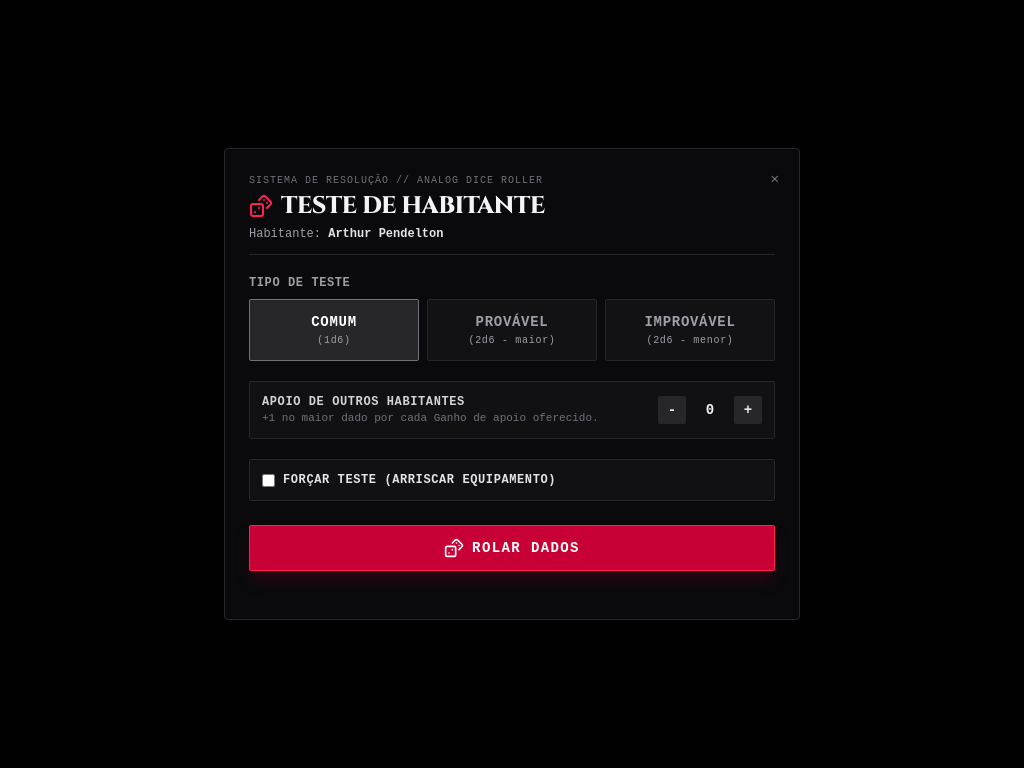
Test: MissingDiceRollerModal Component › permite alternar entre teste comum, provável e improvável
Expected: the button with test id "btn-teste-comum" is shown, [249,299,419,361]
Expected: the button with test id "btn-teste-improvavel" is shown, [605,299,775,361]
Note: Alterna para Provável
Click the button with test id "btn-teste-provavel" at (512, 330), box [427,299,597,361]
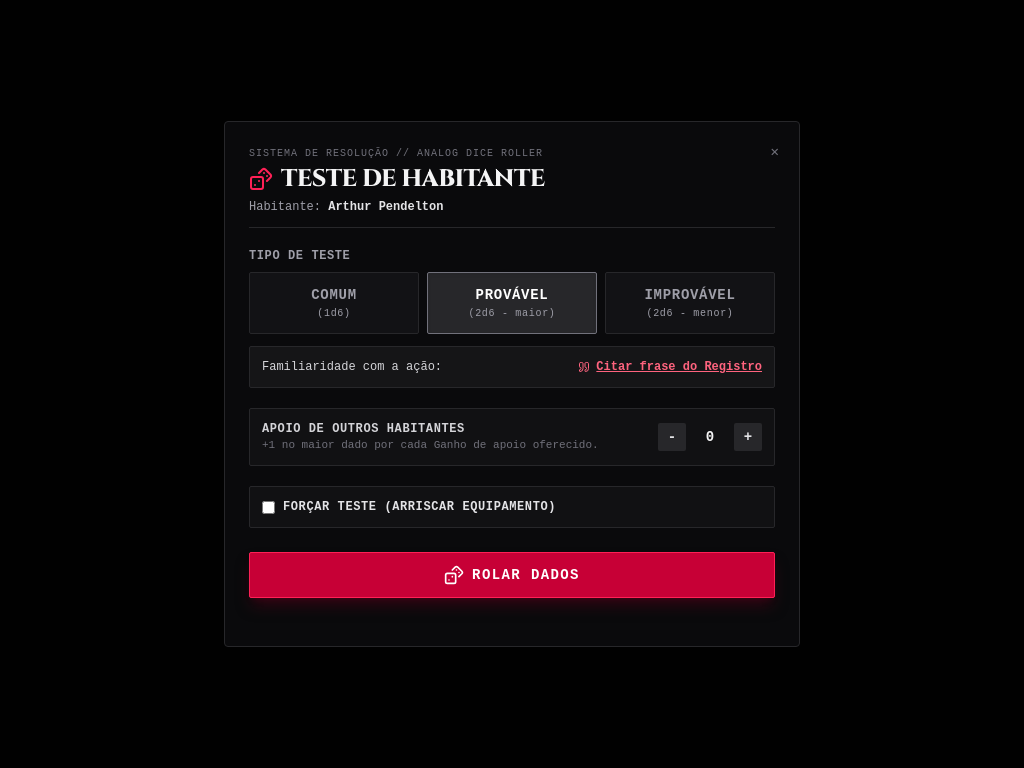
Result: the button with test id "btn-citar-frase" is shown at [578,359,762,375]
Note: Alterna para Improvável
Click the button with test id "btn-teste-improvavel" at (690, 303), box [605,272,775,334]
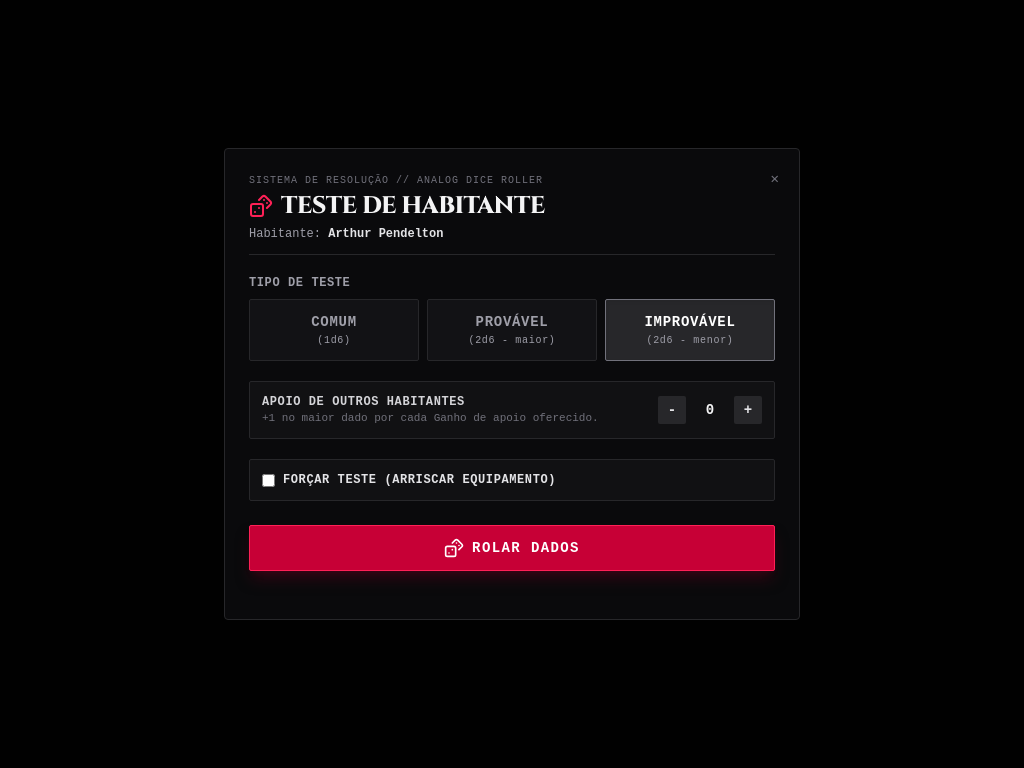
Result: the button with test id "btn-citar-frase" is gone
